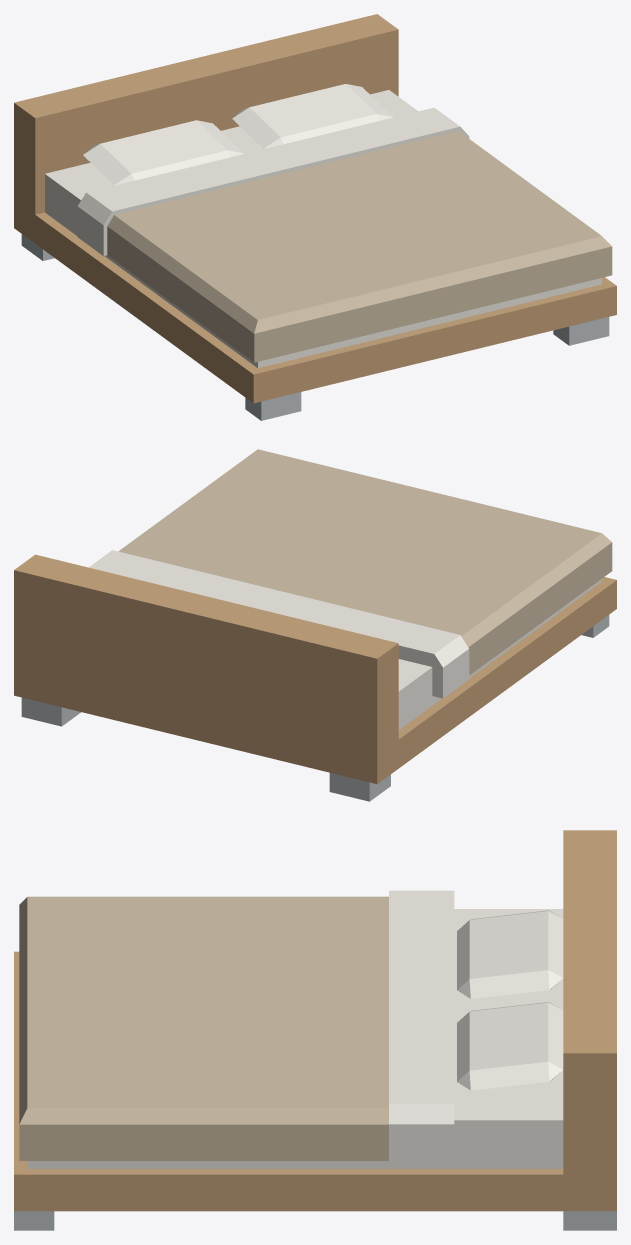
The model's file is bed-king.glb.
The picture shows the model from 3 angles, top to bottom: view 1: azimuth 30°, elevation 25°; view 2: azimuth 150°, elevation 25°; view 3: azimuth 270°, elevation 25°; orthographic projection. The views are drawn at different scales.
Visible parts, largest first — view 1: bed-king; view 2: bed-king; view 3: bed-king.
Part boxes in pixels (bbox=[...]): bed-king: bbox=[14, 14, 616, 420]; bed-king: bbox=[14, 449, 616, 801]; bed-king: bbox=[14, 830, 616, 1230].
Size of the model in its own units: 1.85 by 0.7 by 2.1.
